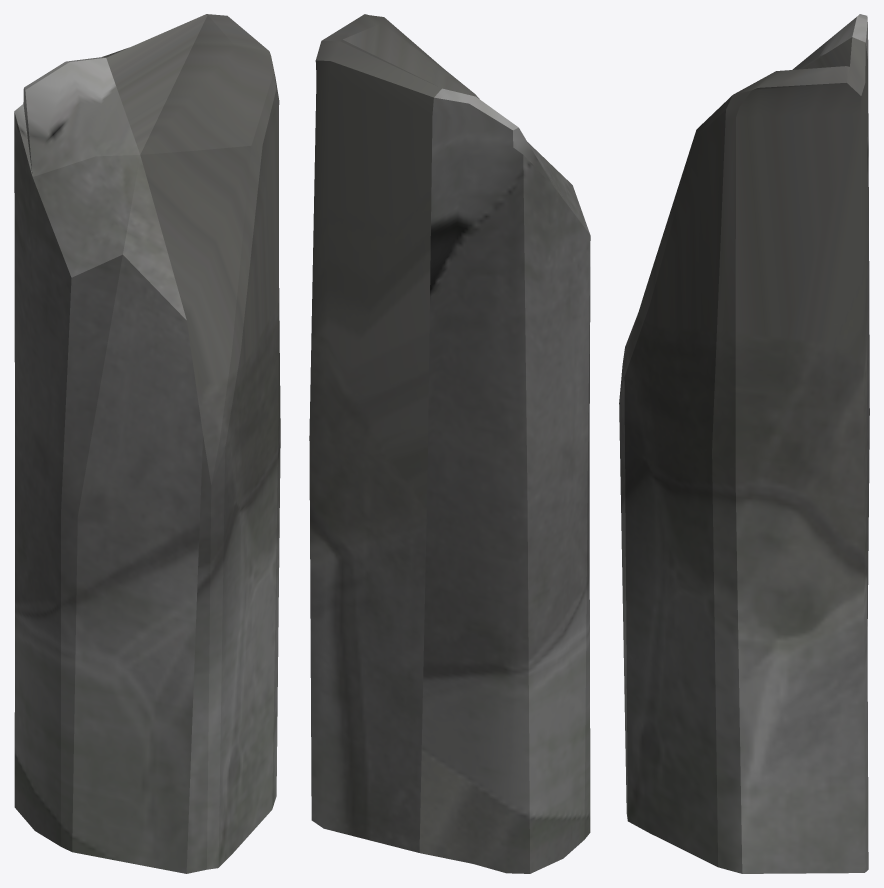
Rendered from 9_R_Chica.fbx.
3 views of the same model, side by side, from view 1: azimuth 30°, elevation 25°; view 2: azimuth 150°, elevation 25°; view 3: azimuth 270°, elevation 25° (orthographic). The views are drawn at different scales.
Parts seen in each view (by area): view 1: 9_R_Chica_Low; view 2: 9_R_Chica_Low; view 3: 9_R_Chica_Low.
Part boxes in pixels (x1,y1,x2,y2): 9_R_Chica_Low: (14, 14, 280, 873); 9_R_Chica_Low: (309, 14, 590, 873); 9_R_Chica_Low: (619, 14, 869, 873).
Bounding box in the file's own units: 399 × 1335 × 377.
